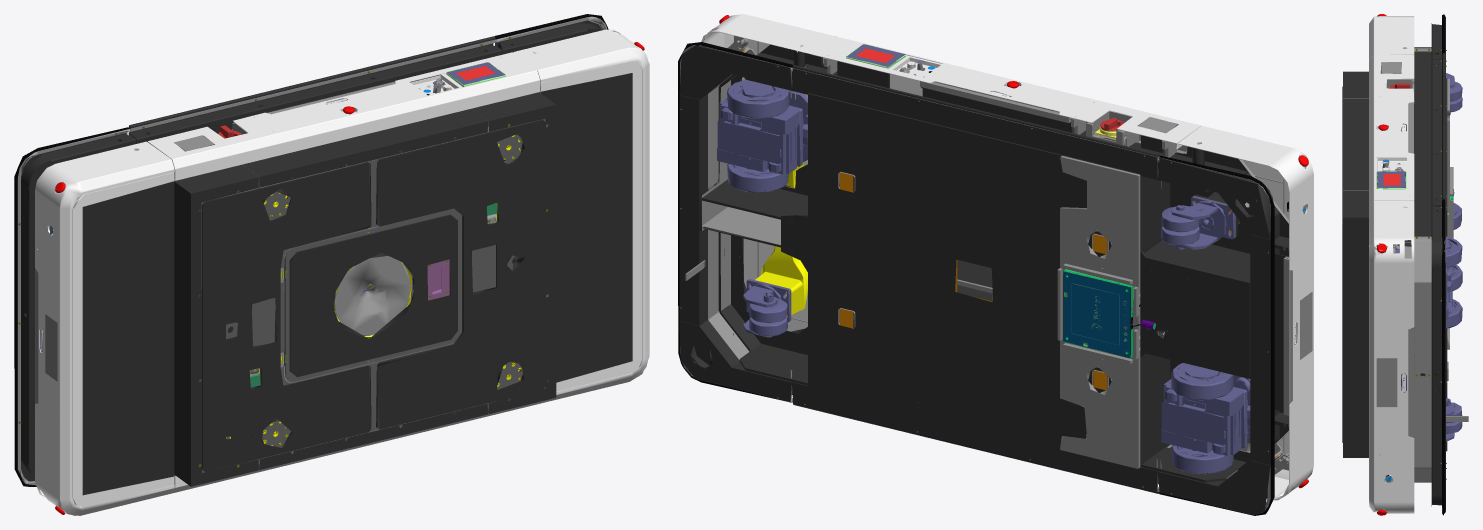
File: amr.glb
3 renders of one model, left to right at view 1: azimuth 30°, elevation 25°; view 2: azimuth 150°, elevation 25°; view 3: azimuth 270°, elevation 25°, orthographic. The views are drawn at different scales.
Bounding box in the file's own units: 2.2 × 1.2 × 0.494.
